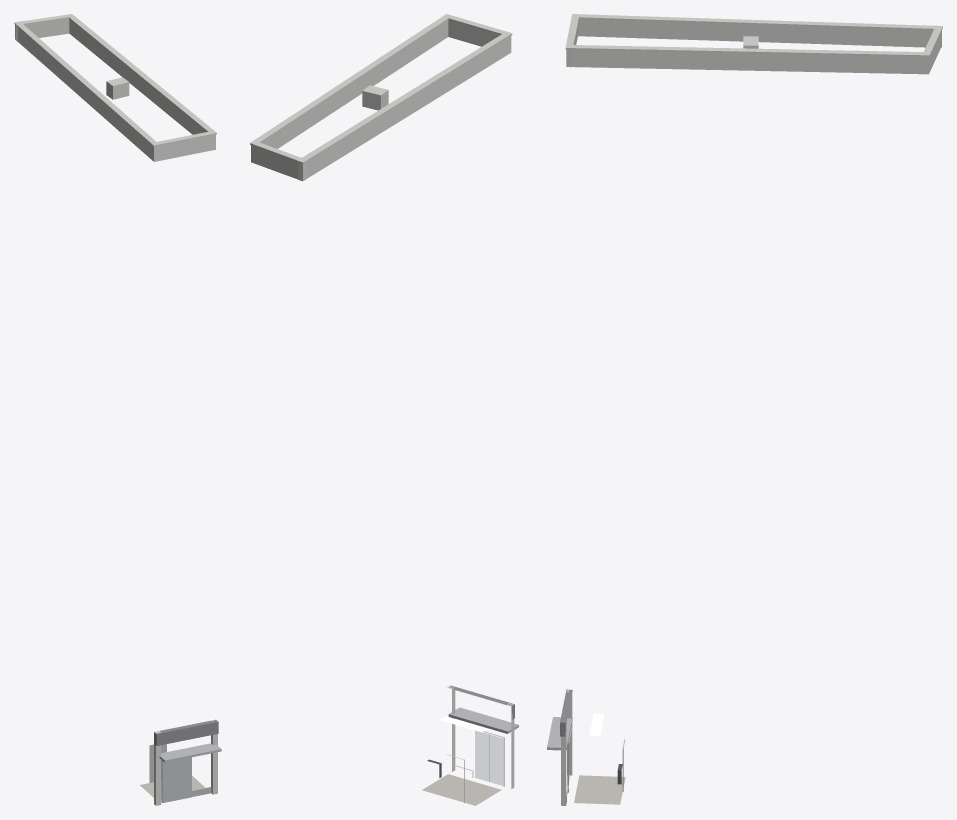
File: d12-eiraku-ground-frontage-roof.glb
3 renders of one model, left to right at view 1: azimuth 30°, elevation 25°; view 2: azimuth 150°, elevation 25°; view 3: azimuth 270°, elevation 25°, orthographic. The views are drawn at different scales.
Visible parts, largest first — view 1: INFERRED_ground_frontage.001; view 2: INFERRED_ground_frontage.001; view 3: INFERRED_ground_frontage.001.
Boxes of the visible parts, box(x1,y1,x2,y2) form: INFERRED_ground_frontage.001: box(14, 14, 221, 805); INFERRED_ground_frontage.001: box(250, 14, 518, 805); INFERRED_ground_frontage.001: box(547, 14, 942, 805).
Bounding box in the file's own units: 4.48 × 38.32 × 18.13.
Materials: 3 (1 with a texture image).
